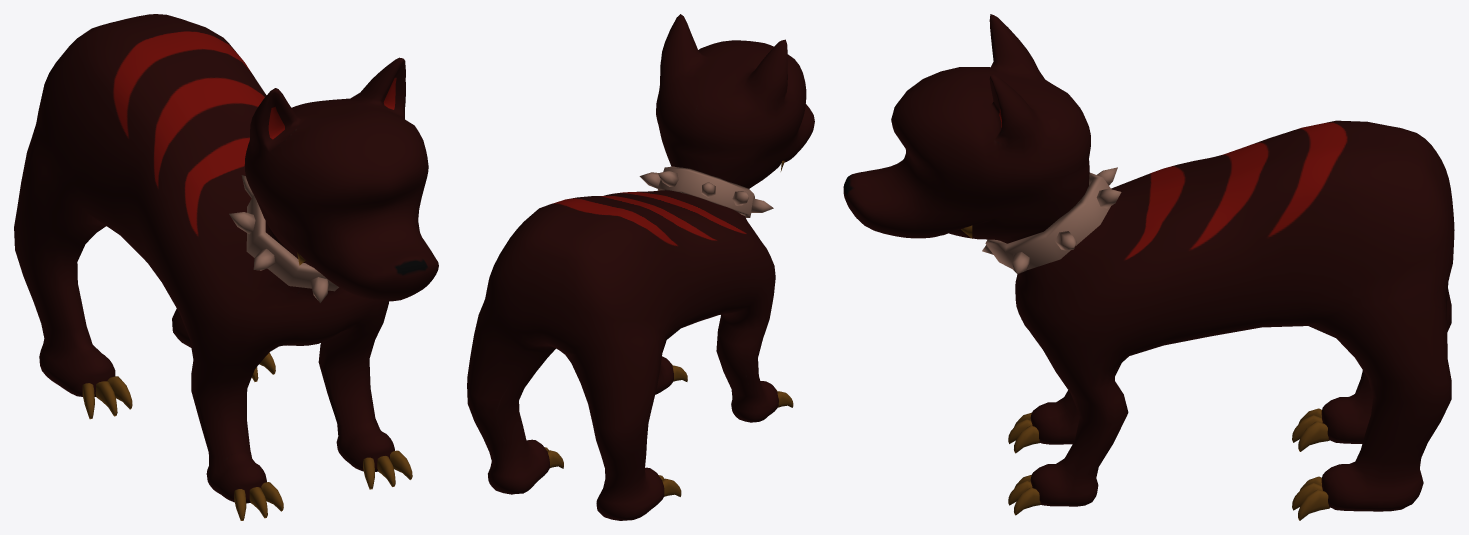
Rendered from firedog.fbx.
The picture shows the model from 3 angles, left to right: view 1: azimuth 30°, elevation 25°; view 2: azimuth 150°, elevation 25°; view 3: azimuth 270°, elevation 25°; orthographic projection. The views are drawn at different scales.
Parts seen in each view (by area): view 1: claw4; view 2: claw4; view 3: claw4.
Part boxes in pixels (box(x1,y1,x2,y2)): claw4: box(14, 14, 438, 520); claw4: box(467, 14, 814, 520); claw4: box(843, 14, 1454, 520).
Size of the model in its own units: 0.6926 by 1.33 by 1.71.
Materials: 3 (1 with a texture image).
